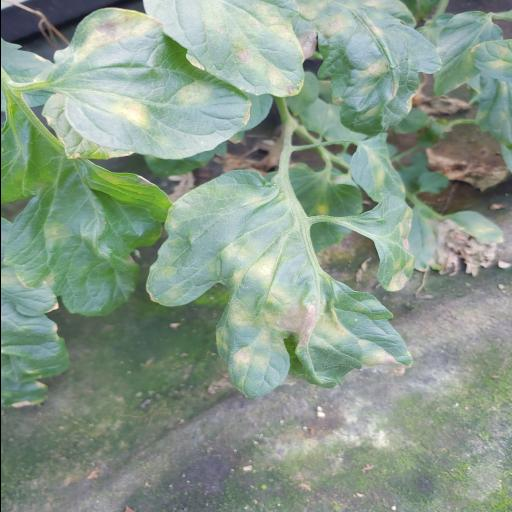disease_tomato: (144, 170, 412, 400), (0, 108, 172, 316), (65, 6, 253, 160), (258, 0, 444, 132), (140, 0, 306, 97)
